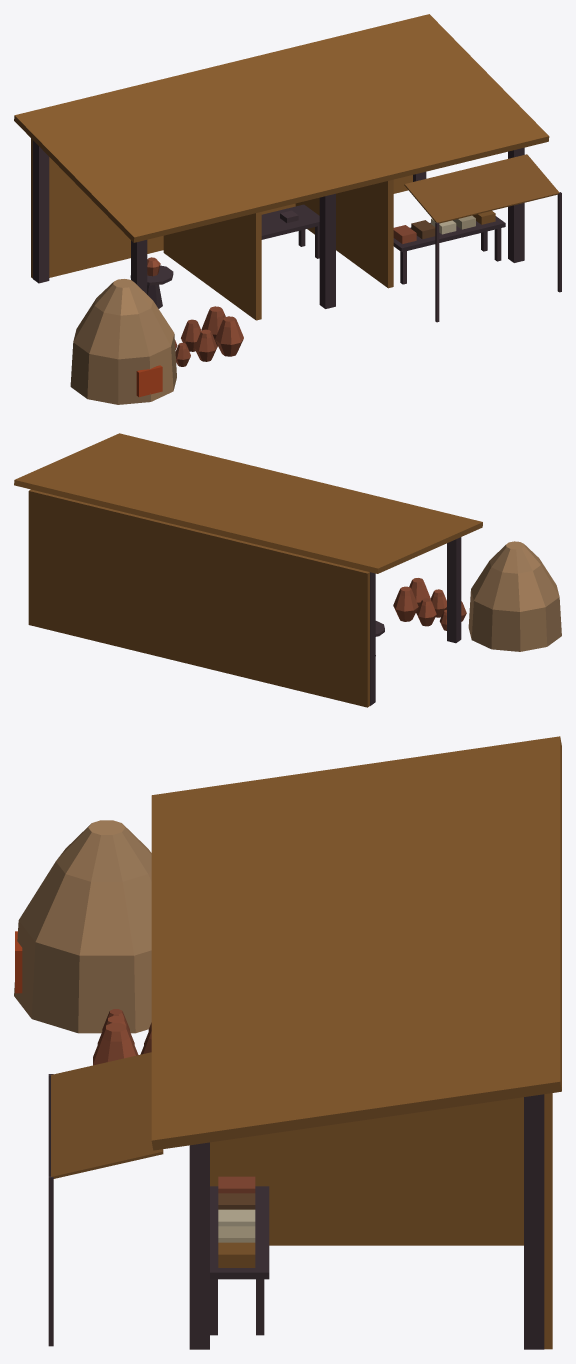
File: walk_hive_artisan.glb
3 views of the same model, one above another, from view 1: azimuth 30°, elevation 25°; view 2: azimuth 150°, elevation 25°; view 3: azimuth 270°, elevation 25° (orthographic). The views are drawn at different scales.
Visible parts, largest first — view 1: walk_hive_artisan_roof, walk_hive_artisan; view 2: walk_hive_artisan, walk_hive_artisan_roof; view 3: walk_hive_artisan_roof, walk_hive_artisan.
Boxes of the visible parts, box(x1,y1,x2,y2) form: walk_hive_artisan_roof: box(14, 14, 549, 242); walk_hive_artisan: box(31, 138, 561, 404); walk_hive_artisan: box(28, 489, 561, 707); walk_hive_artisan_roof: box(14, 433, 482, 573); walk_hive_artisan_roof: box(151, 736, 561, 1150); walk_hive_artisan: box(14, 820, 552, 1349).
Size of what is drawn, in the model's own units: 10.25 by 3.32 by 5.9.
2 materials, 2 textured.
